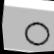no answer: (16, 16, 54, 53)
